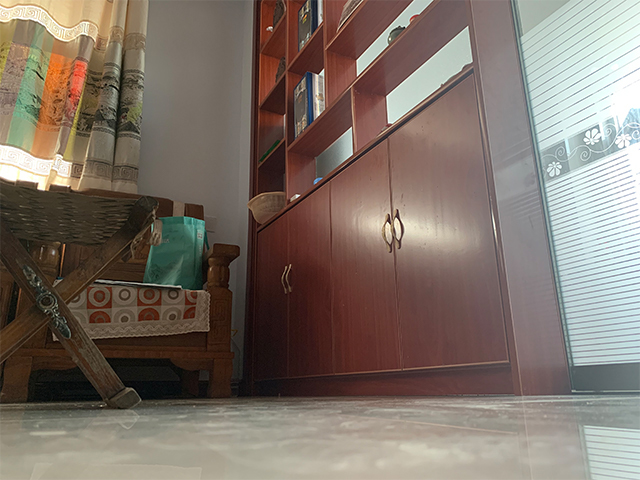cabinet: (239, 66, 489, 399)
sofa: (1, 183, 241, 403)
stool: (1, 185, 161, 411)
